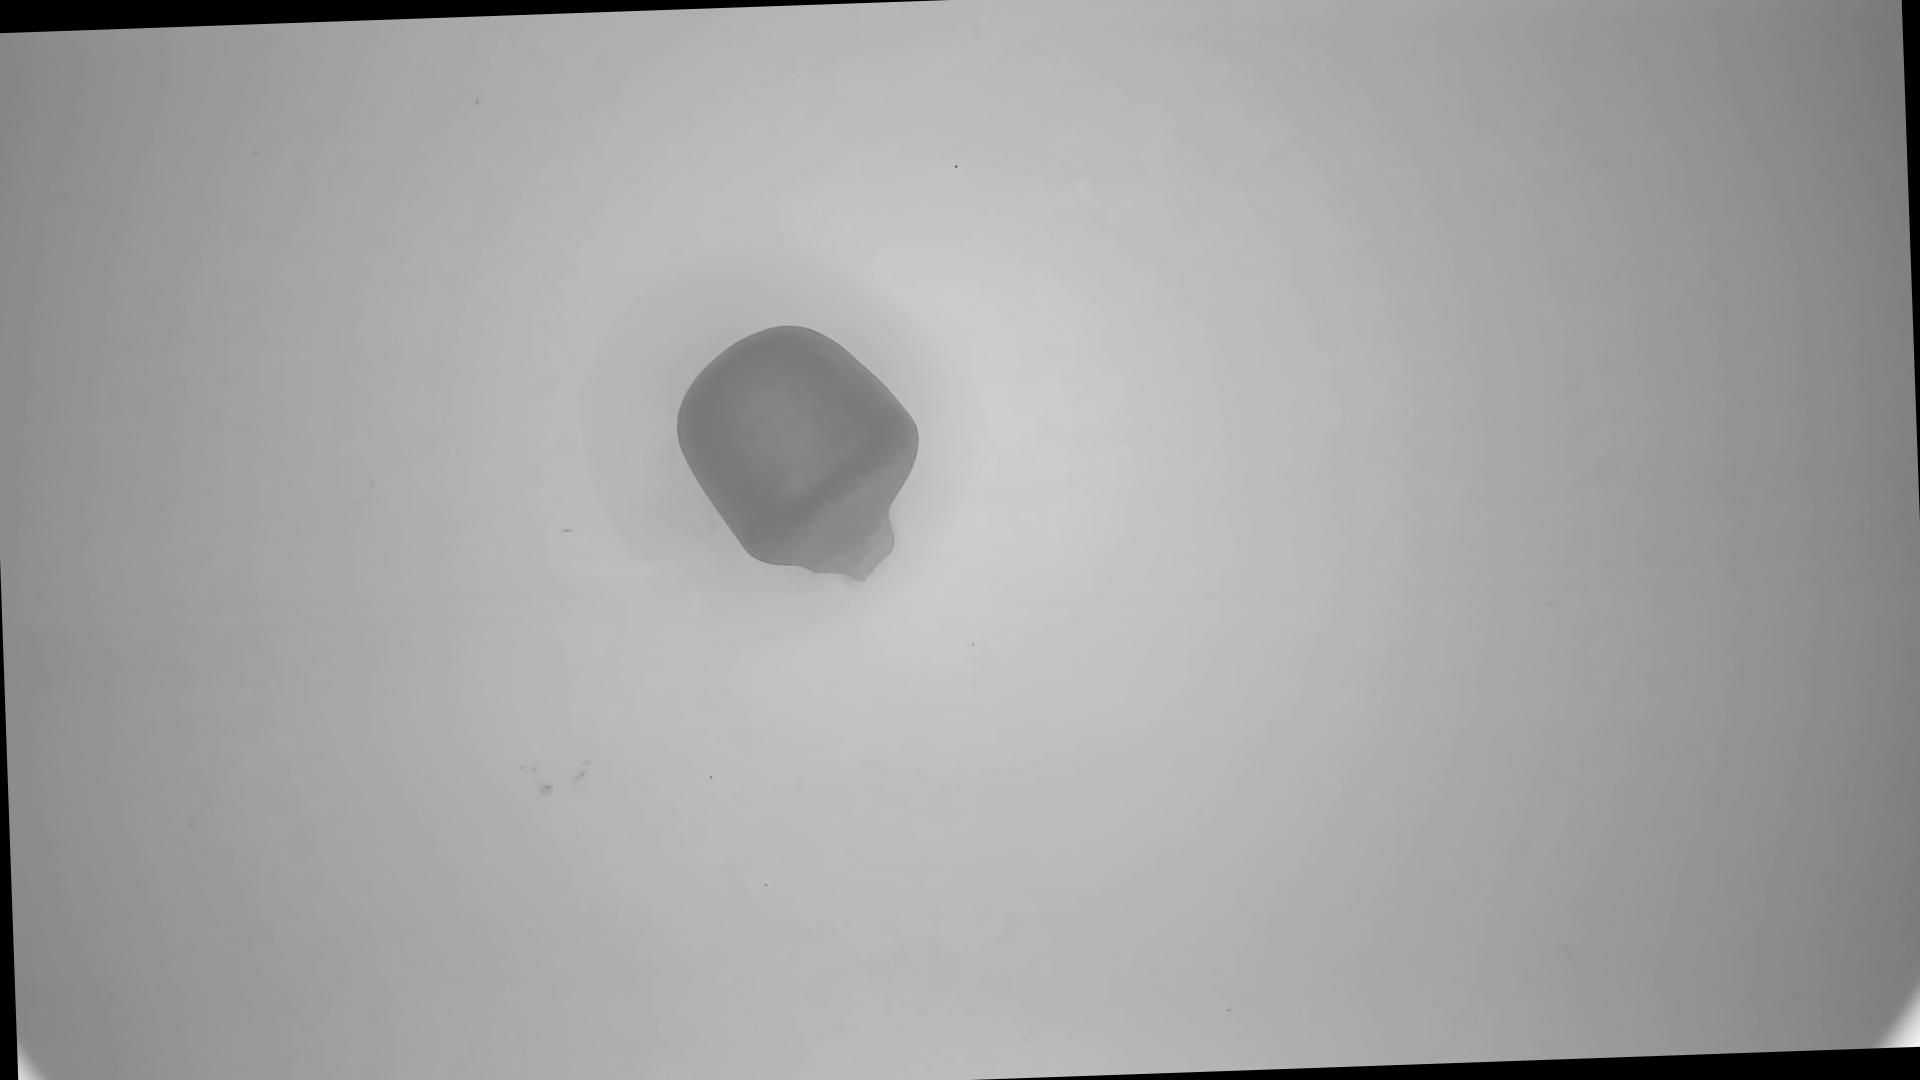abnormal: (674, 319, 928, 591)
